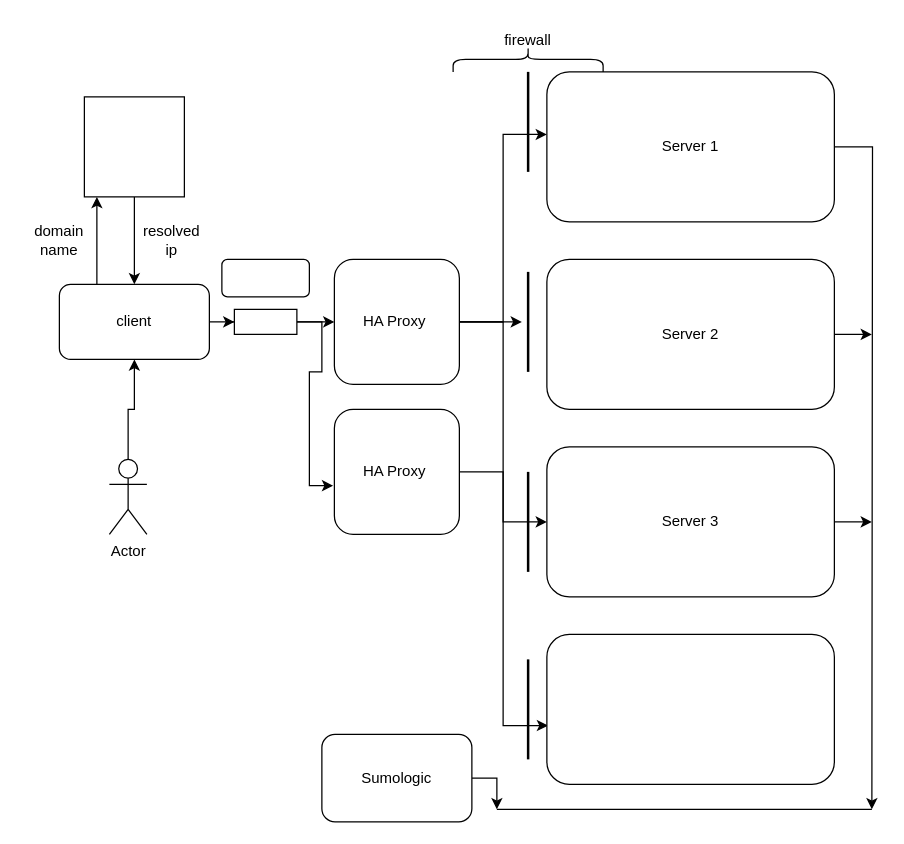
Image size: 904x844. Some labels were removed from this diagram. The shapes that lost their labels are listed below. From the top down, each one's box as (x1, y1, x2, y2) in pixels, then its label:
(83, 96, 184, 197): dns system
(221, 258, 309, 297): SSL certificate
(233, 308, 297, 334): https
(546, 633, 834, 784): Server 4
